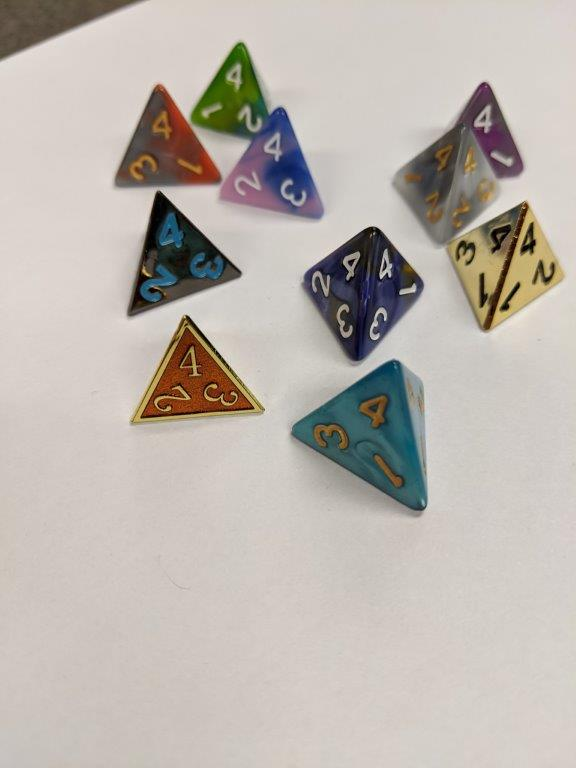d4-4: (284, 358, 433, 514), (443, 194, 568, 339), (299, 223, 425, 364), (125, 188, 242, 320), (120, 315, 265, 419), (389, 125, 502, 240), (217, 103, 326, 221), (111, 80, 222, 190), (184, 39, 268, 140), (458, 76, 526, 180)
